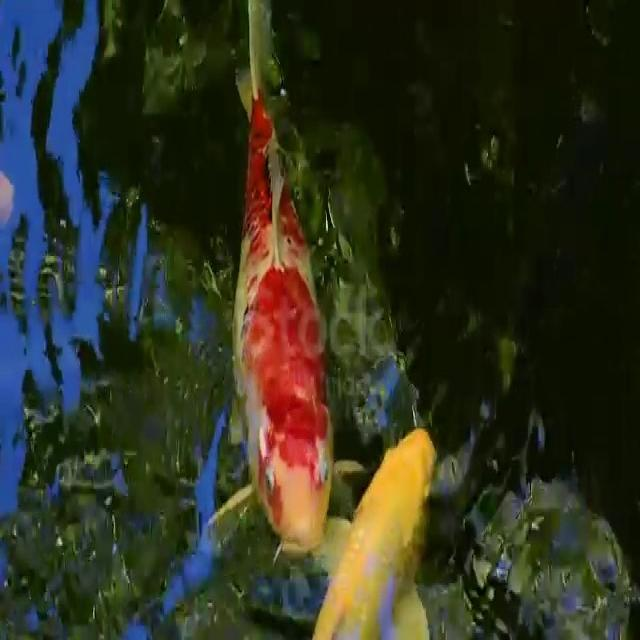fish: (224, 0, 340, 568), (311, 426, 448, 640)
